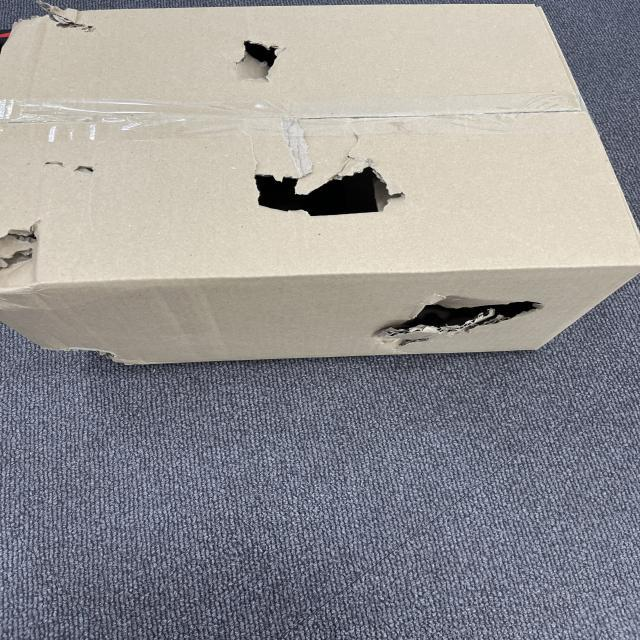hole: (247, 155, 411, 223), (376, 295, 544, 345), (226, 37, 286, 75)
